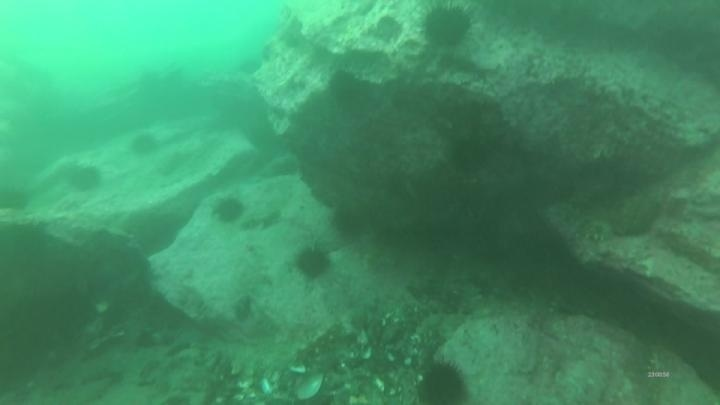echinus: (419, 2, 476, 51), (416, 359, 471, 404), (449, 134, 492, 175), (330, 200, 372, 241), (292, 243, 334, 282), (65, 162, 104, 195), (210, 194, 247, 227), (0, 184, 33, 215), (127, 131, 161, 160), (236, 54, 264, 78)
holothurian: (405, 271, 487, 316), (411, 307, 468, 348)
